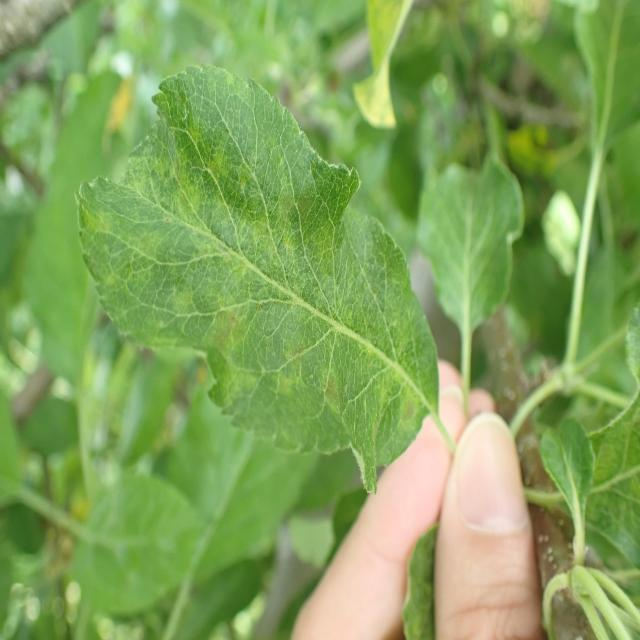scab: (101, 138, 425, 447)
